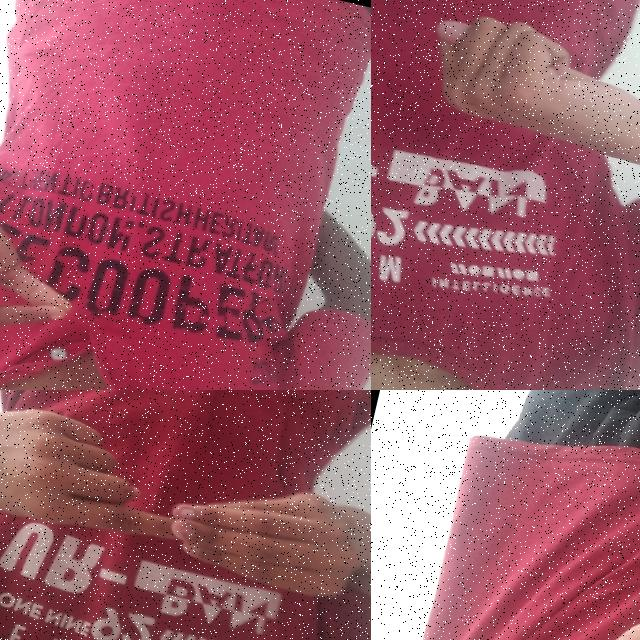Dulya: (409, 0, 640, 163)
Five Fathers: (0, 390, 371, 602)
Okay: (0, 150, 101, 390)
